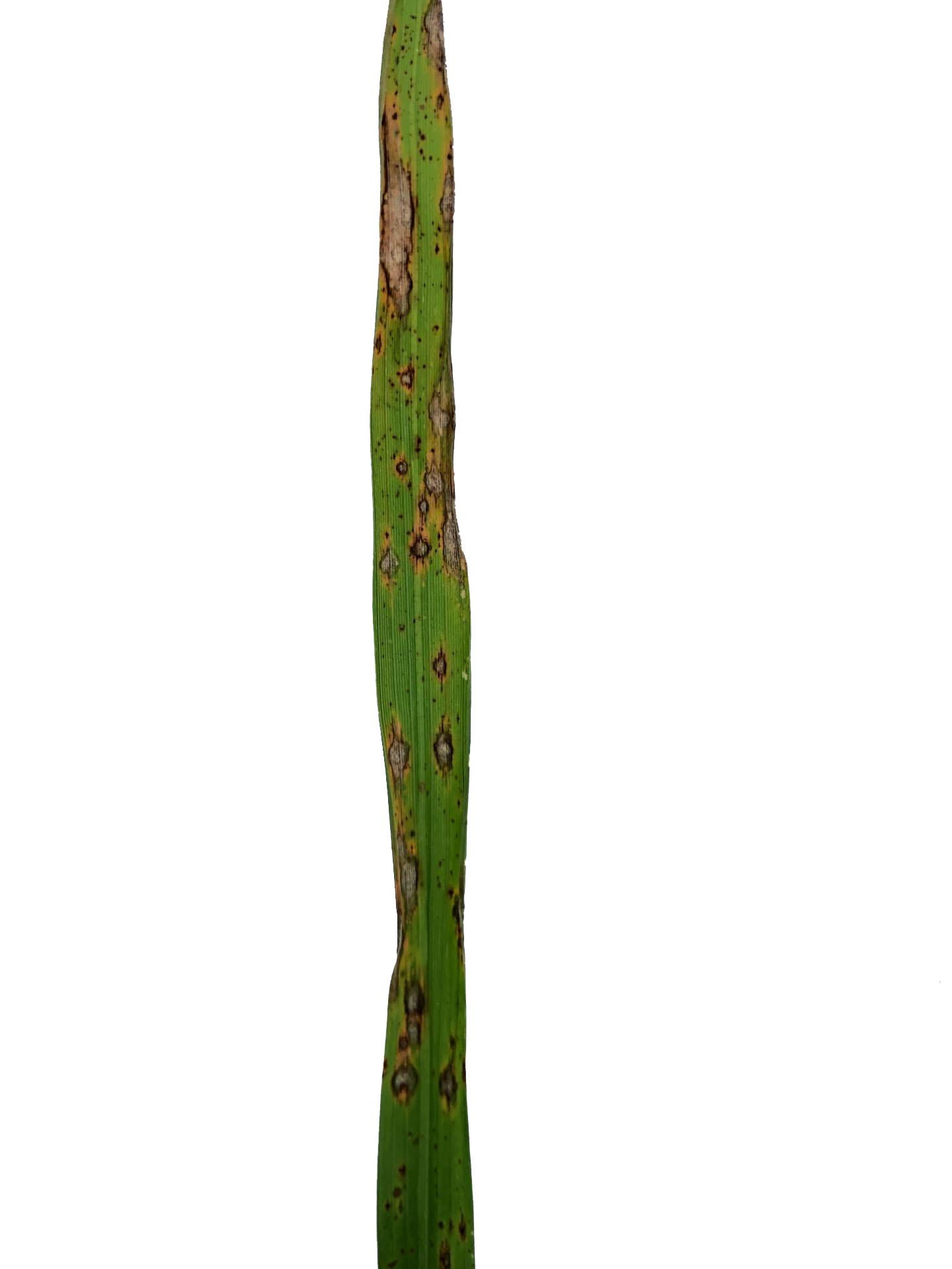Rice blast: (364, 150, 423, 312), (421, 463, 460, 570), (391, 821, 420, 930), (415, 378, 455, 449), (384, 717, 417, 798), (389, 1061, 425, 1119), (402, 967, 424, 1060), (435, 1051, 466, 1110), (435, 707, 456, 783), (440, 159, 460, 238), (422, 2, 442, 66), (376, 539, 402, 587), (429, 638, 451, 687), (397, 365, 413, 390)
